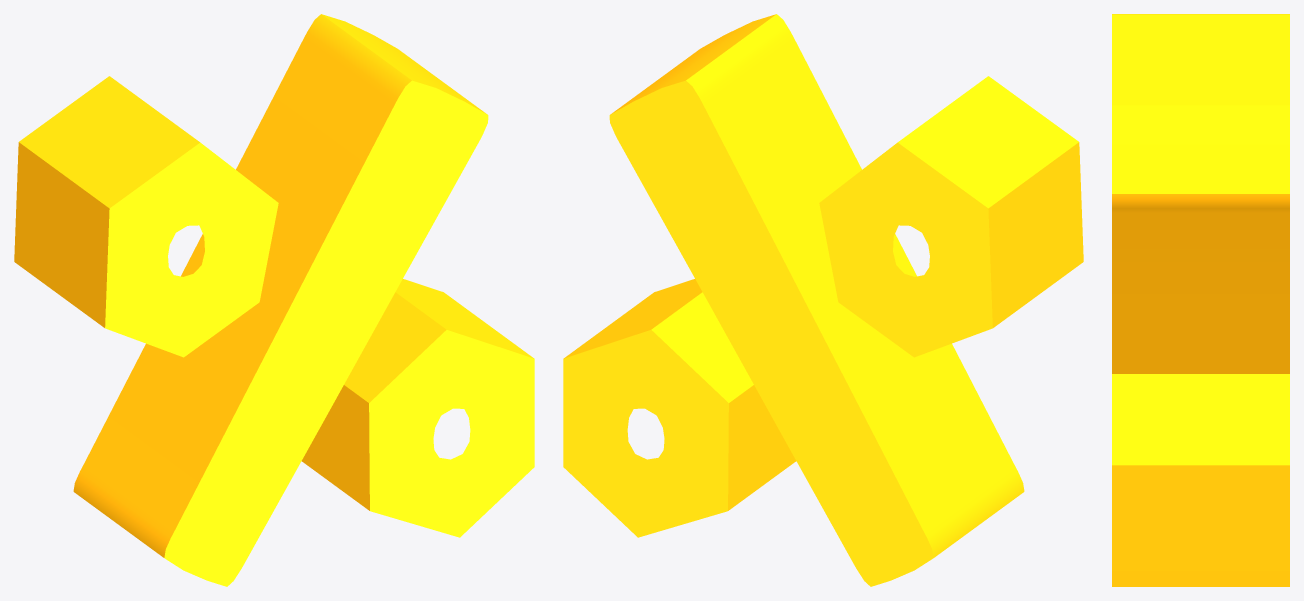
File: symbol%_Zyzol_Yellow.glb
3 views of the same model, side by side, from view 1: azimuth 30°, elevation 25°; view 2: azimuth 150°, elevation 25°; view 3: azimuth 270°, elevation 25° (orthographic). The views are drawn at different scales.
Visible parts, largest first — view 1: %_Zyzol_Yellow; view 2: %_Zyzol_Yellow; view 3: %_Zyzol_Yellow.
Boxes of the visible parts, box(x1,y1,x2,y2) form: %_Zyzol_Yellow: box(14, 14, 534, 586); %_Zyzol_Yellow: box(563, 14, 1083, 586); %_Zyzol_Yellow: box(1112, 14, 1289, 586).
Size of what is drawn, in the model's own units: 0.1228 by 0.1281 by 0.045.
2 materials, 2 textured.
